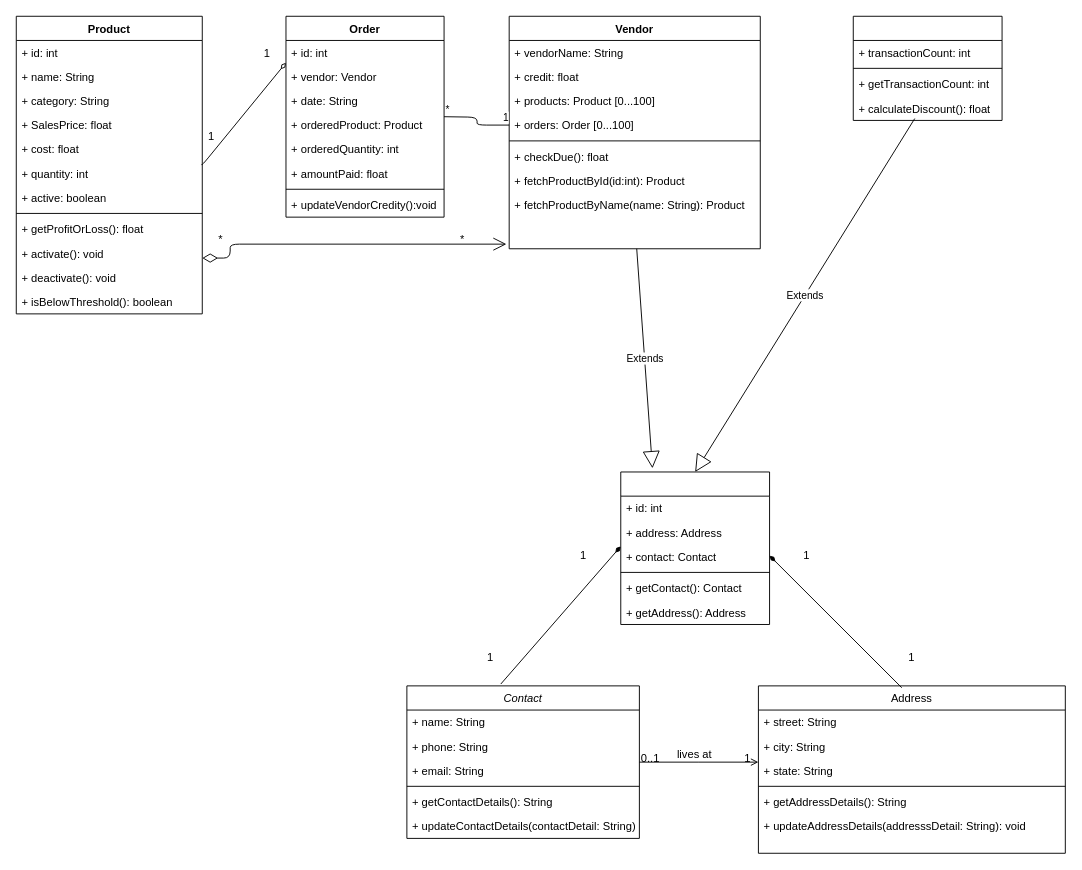
This 1082x870 diagram has some shape labels left out. Here are the shapes that lost their labels. From the top down, the box of each, then its label:
(852, 15, 1002, 120): Customer
(620, 471, 770, 624): BuisnessPartner
